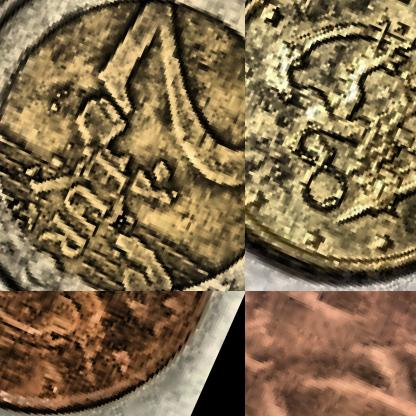coin: (0, 0, 244, 290), (245, 0, 415, 290), (0, 291, 244, 415), (245, 291, 415, 415)
